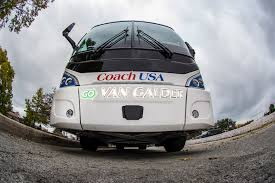bus: (48, 20, 214, 154)
